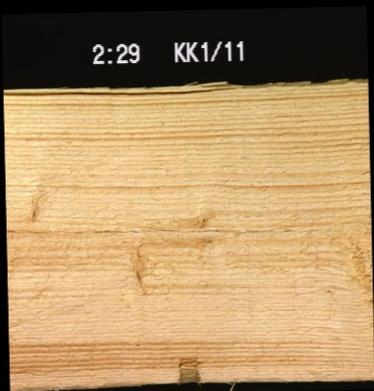split: (5, 216, 364, 238), (2, 85, 242, 97)
